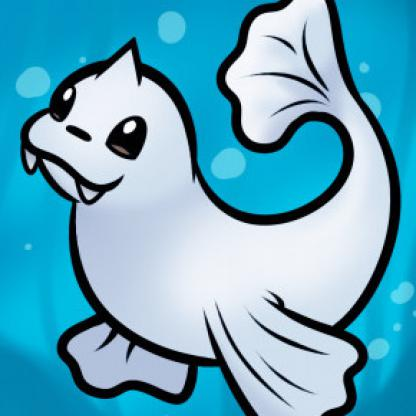Dewgong: (27, 1, 400, 416)
